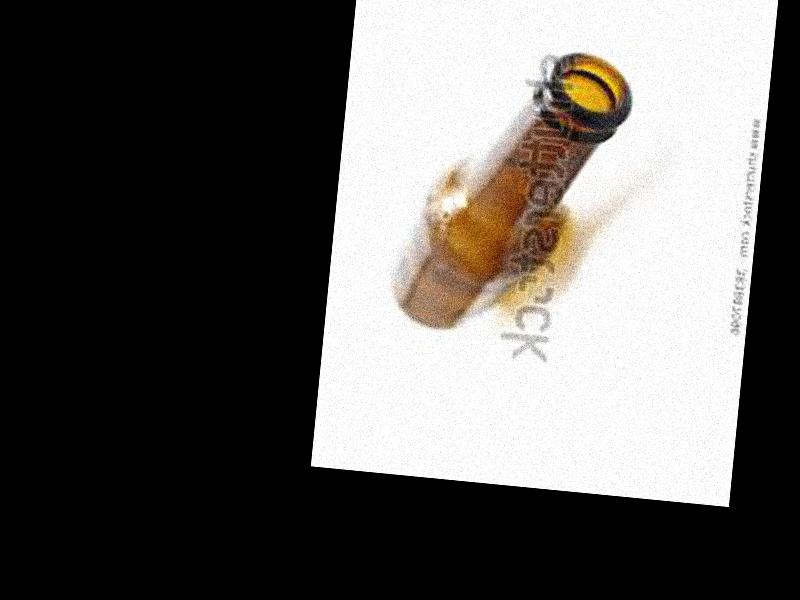Beer: (387, 36, 638, 346)
